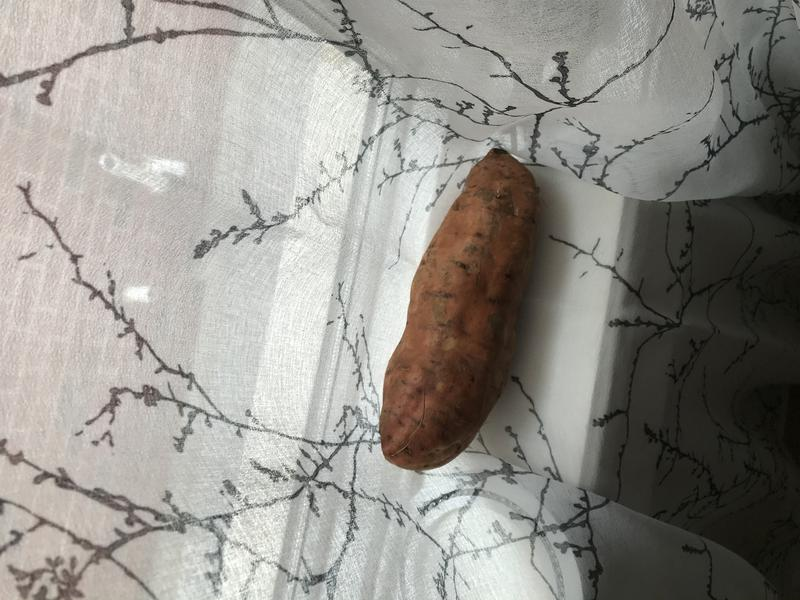sweet_potato: (363, 130, 554, 481)
